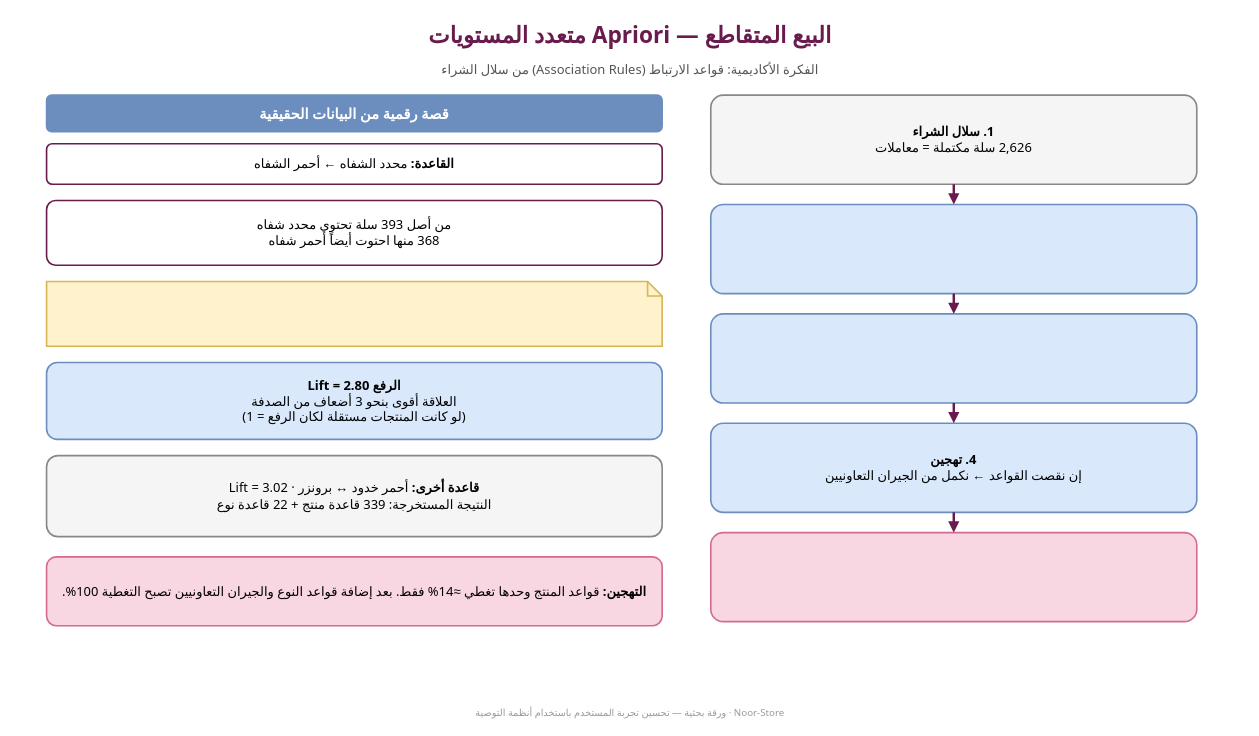
This 1259x736 diagram has some shape labels left out. The shapes that lost their labels are listed below. From the top down, each one's box as (x1, y1, x2, y2) in pixels, then its label:
(710, 203, 1197, 294): 2. مجموعات متكررة حد أدنى للدعم: 0.3% للمنتجات · 1% للأنواع
(45, 280, 663, 347): الثقة Confidence = 93.6% أي أن احتمال شراء أحمر الشفاه بعد المحدد عالٍ جداً
(710, 313, 1197, 403): 3. توليد القواعد ثقة ≥ 10% ورفع (Lift) > 1
(710, 531, 1197, 622): 5. الواجهة «يُشترى معاً» و«أكمل إطلالتك»
